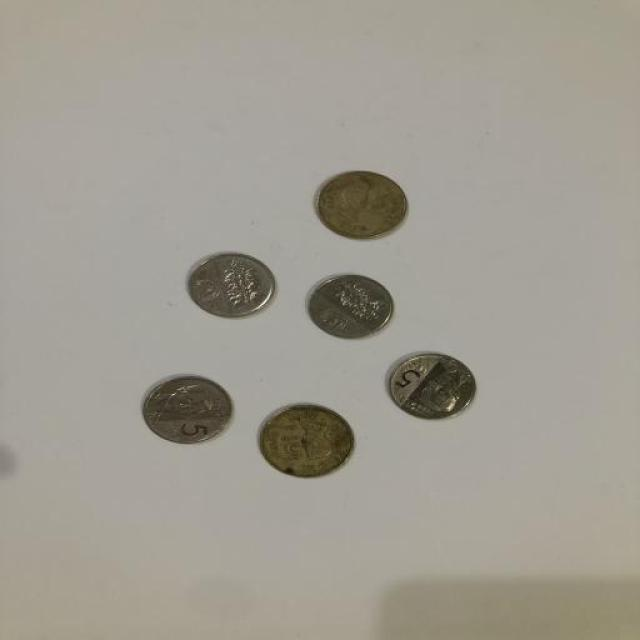5 peso: (180, 245, 280, 327), (377, 347, 483, 422), (136, 367, 235, 446), (302, 265, 396, 344)
5 peso-old: (257, 399, 359, 481), (309, 165, 415, 242)
